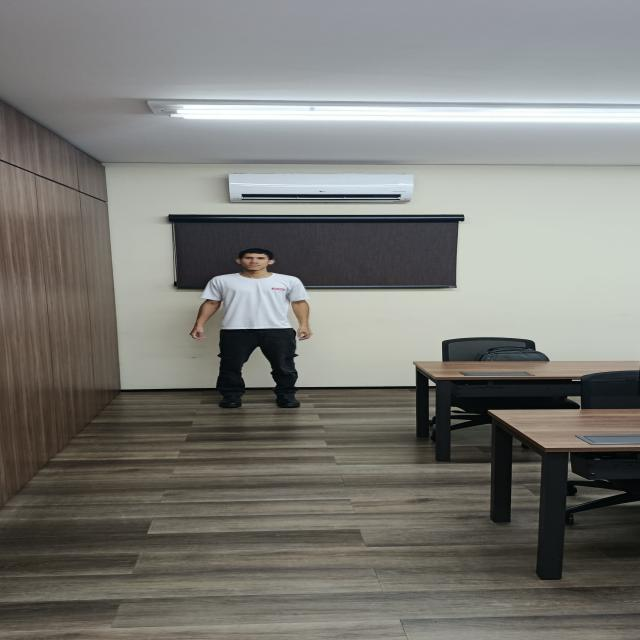sem_oculos: (236, 257, 275, 261)
